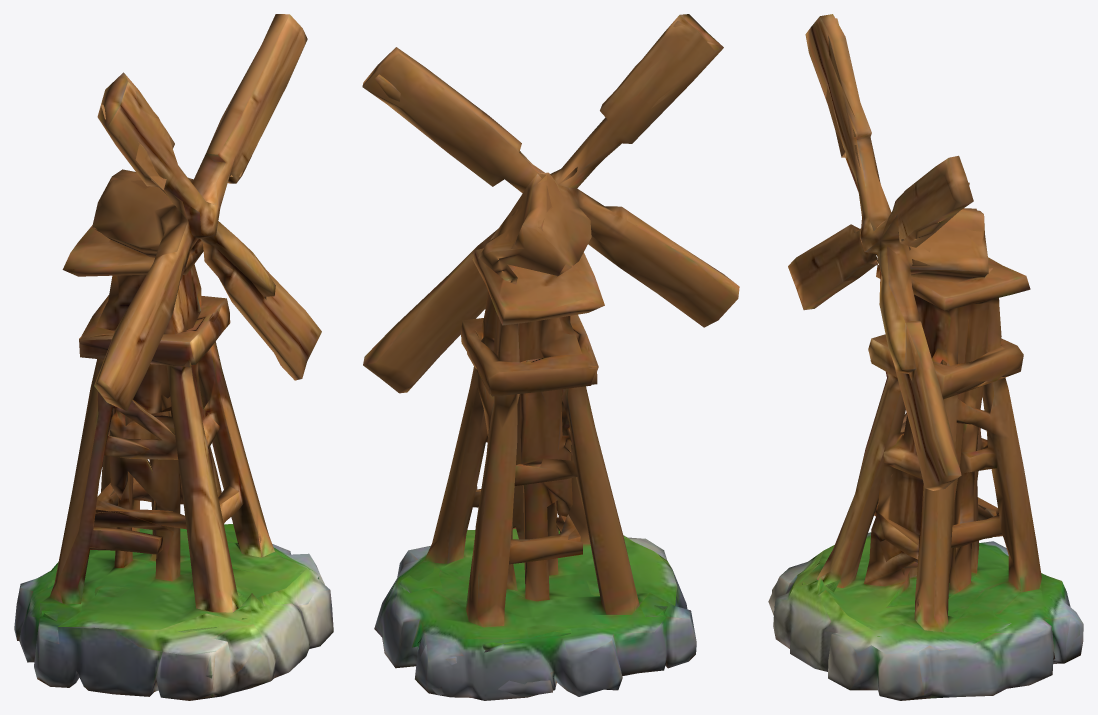
The model's file is mill.glb.
3 renders of one model, left to right at view 1: azimuth 30°, elevation 25°; view 2: azimuth 150°, elevation 25°; view 3: azimuth 270°, elevation 25°, orthographic. The views are drawn at different scales.
Parts seen in each view (by area): view 1: level; view 2: level; view 3: level.
Part boxes in pixels (<box>): level: <box>14,14,333,700</box>; level: <box>362,14,739,700</box>; level: <box>768,14,1083,700</box>.
Size of the model in its own units: 0.4486 by 0.8683 by 0.4223.
Materials: 1 (1 with a texture image).
